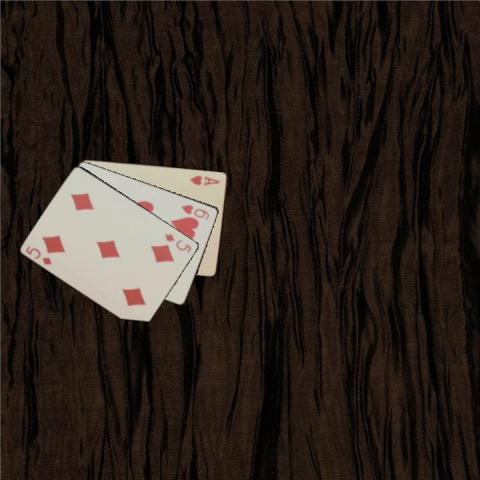5d: (162, 230, 193, 255), (23, 243, 53, 266)
6h: (178, 201, 210, 221)
Ah: (188, 172, 222, 187)
